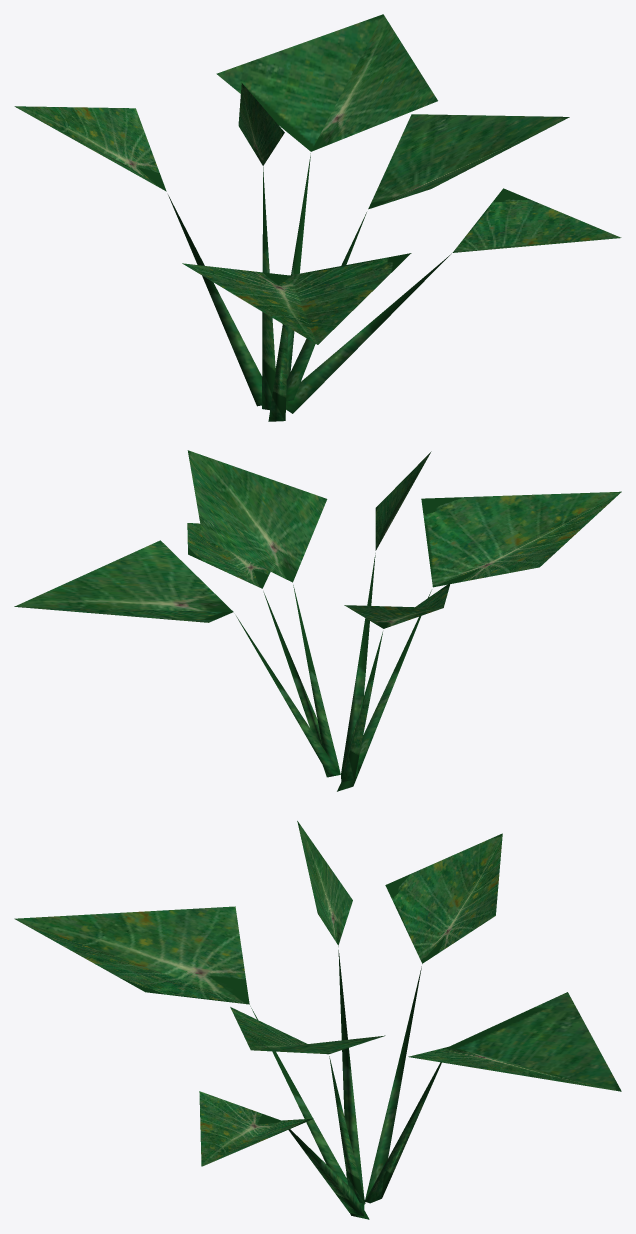
File: leaf_giantpalm_lrg_l3.fbx
The picture shows the model from 3 angles, top to bottom: view 1: azimuth 30°, elevation 25°; view 2: azimuth 150°, elevation 25°; view 3: azimuth 270°, elevation 25°; orthographic projection. The views are drawn at different scales.
Parts seen in each view (by area): view 1: mesh_node; view 2: mesh_node; view 3: mesh_node.
Boxes of the visible parts, bbox=[...] form: mesh_node: bbox=[14, 14, 621, 421]; mesh_node: bbox=[14, 450, 621, 791]; mesh_node: bbox=[14, 821, 621, 1219].
Size of the model in its own units: 4.38 by 3.53 by 5.31.
